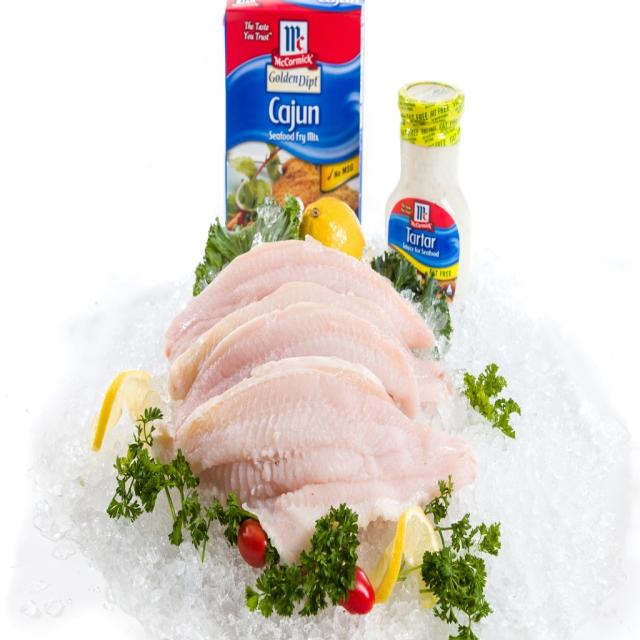Catfish: (178, 255, 430, 481)
Coriander: (108, 394, 234, 568), (186, 195, 310, 292), (264, 497, 364, 617), (432, 495, 503, 636), (373, 252, 453, 358), (463, 356, 527, 442)
lemon: (81, 375, 162, 454), (380, 504, 431, 620), (306, 194, 365, 267)
